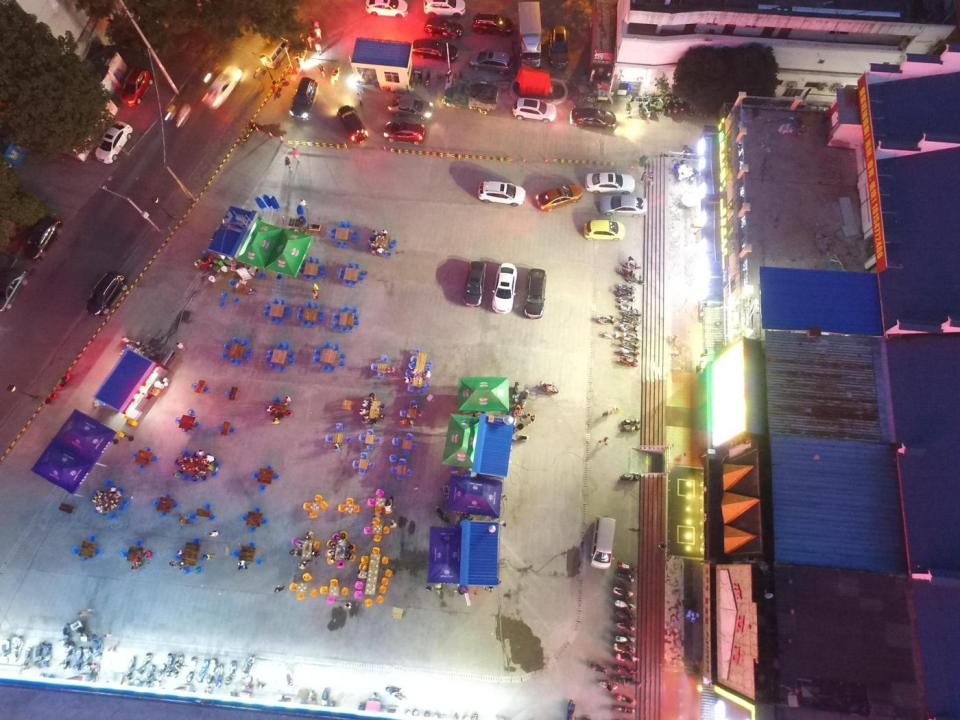car: (85, 271, 128, 317), (200, 65, 244, 109), (94, 120, 134, 164), (25, 216, 62, 262), (492, 261, 517, 316), (119, 68, 154, 107), (535, 183, 582, 212), (476, 180, 526, 207), (0, 267, 29, 313), (289, 77, 318, 121), (385, 95, 435, 120), (337, 105, 368, 145), (411, 38, 459, 63), (523, 269, 547, 319), (463, 258, 487, 308), (585, 171, 635, 195), (511, 98, 557, 124), (468, 50, 513, 75), (471, 12, 514, 38), (568, 107, 616, 130), (599, 195, 647, 218), (384, 121, 426, 145), (583, 218, 625, 241), (424, 17, 464, 41), (549, 25, 569, 70), (364, 0, 409, 18), (424, 0, 466, 19)
van: (442, 82, 498, 115), (517, 0, 542, 70), (590, 516, 615, 570), (260, 36, 290, 70)
